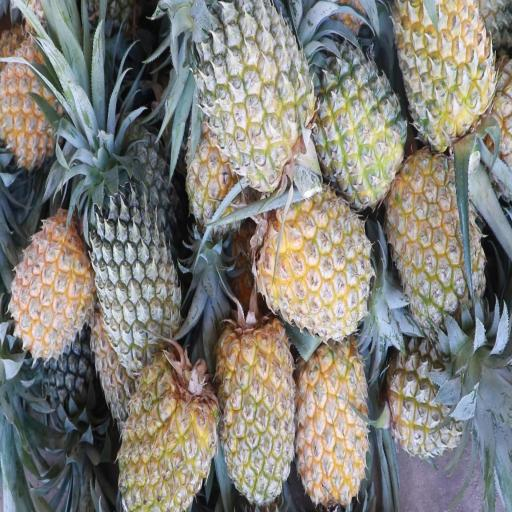------------------------------: (195, 0, 308, 176), (390, 162, 481, 318), (400, 0, 494, 151), (386, 339, 468, 453)
Pineapple - v8 v1: (121, 343, 218, 511), (261, 185, 367, 333), (218, 320, 292, 506), (319, 52, 401, 204), (10, 211, 92, 354), (296, 343, 367, 498), (183, 85, 247, 227), (0, 38, 71, 157)
